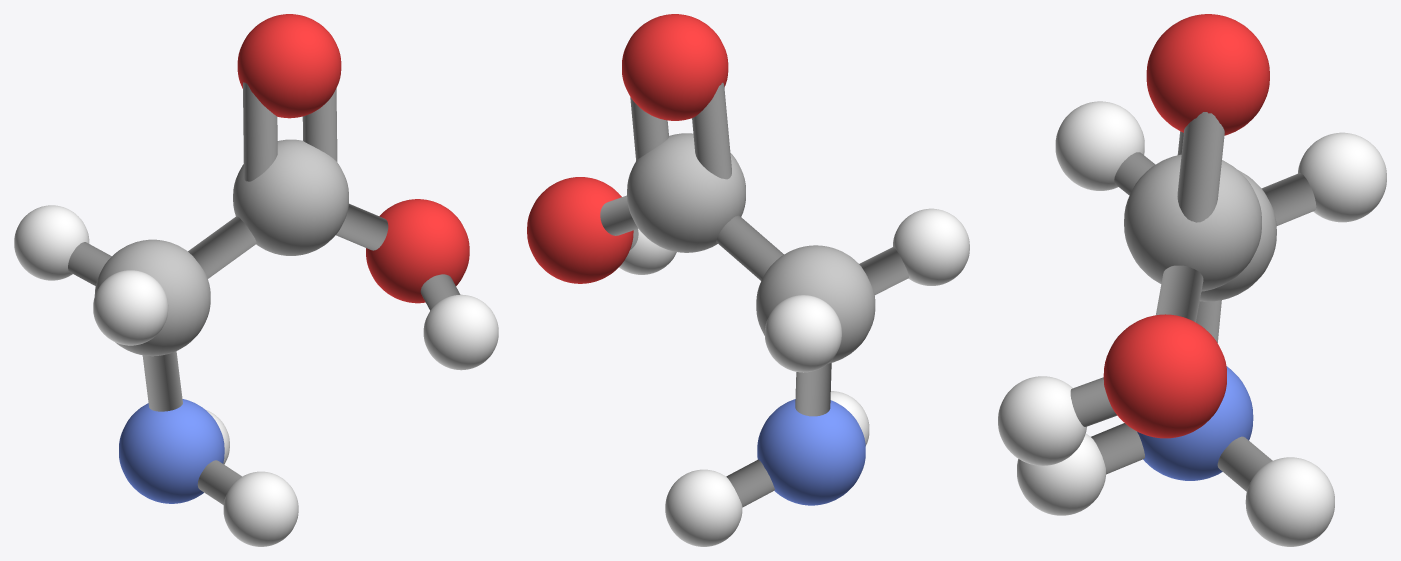
File: Lop10_Protein_Tab1_glycine.glb
The picture shows the model from 3 angles, left to right: view 1: azimuth 30°, elevation 25°; view 2: azimuth 150°, elevation 25°; view 3: azimuth 270°, elevation 25°; orthographic projection. The views are drawn at different scales.
Visible parts, largest first — view 1: Object_5, Object_3, Object_4, Object_6, Object_2; view 2: Object_4, Object_3, Object_5, Object_6, Object_2; view 3: Object_5, Object_4, Object_6, Object_3, Object_2.
Part boxes in pixels (x1,y1,x2,y2): Object_5: (14,205,498,546); Object_3: (94,139,348,356); Object_4: (237,14,469,303); Object_6: (68,82,460,504); Object_2: (119,399,224,503); Object_4: (527,14,728,283); Object_3: (627,133,875,363); Object_5: (619,208,969,546); Object_6: (600,82,908,507); Object_2: (757,399,865,505); Object_5: (998,101,1386,546); Object_4: (1103,14,1269,438); Object_6: (1070,112,1316,491); Object_3: (1124,154,1276,301); Object_2: (1137,366,1253,480).
Bounding box in the file's own units: 3.96 × 4.54 × 2.86.
